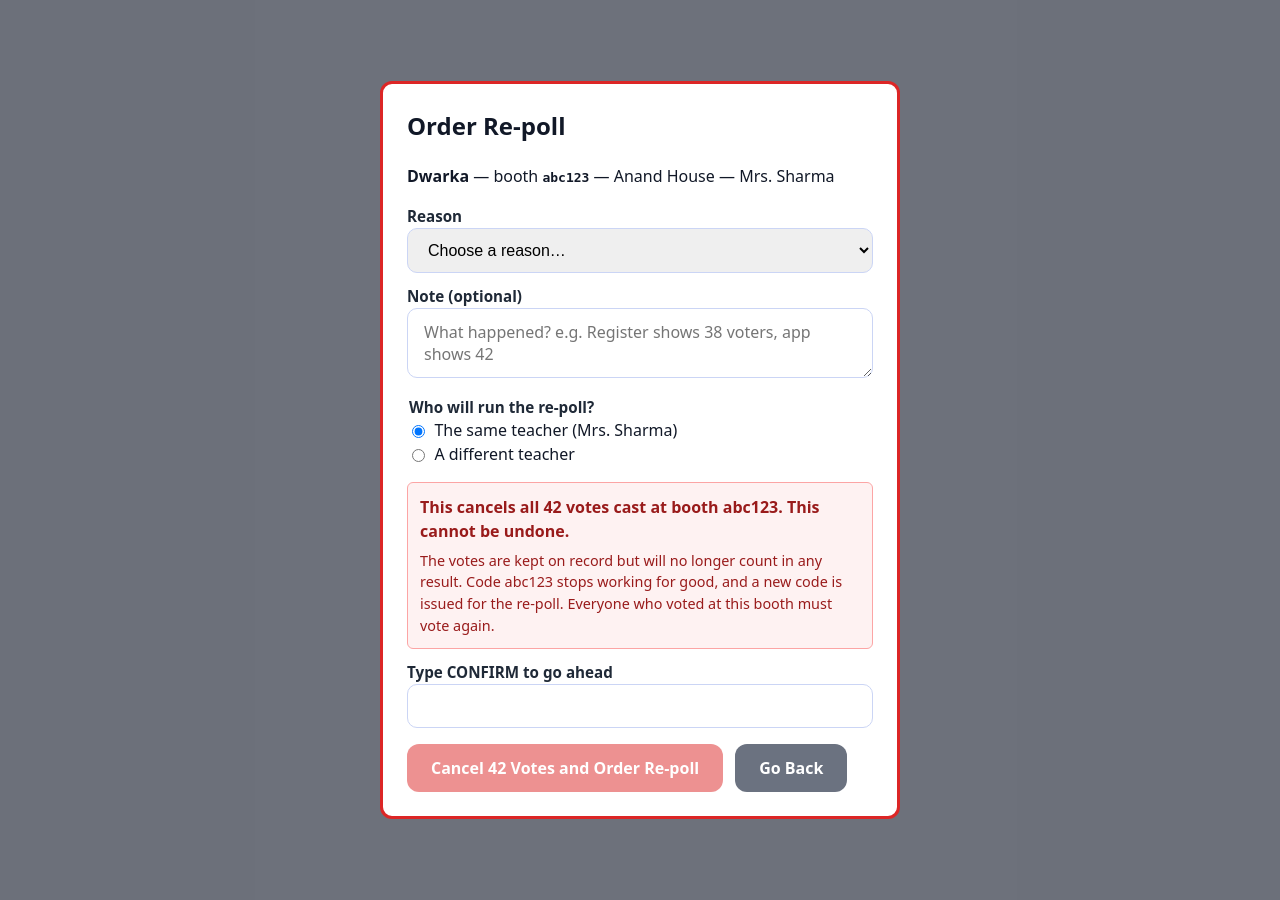
Test: RepollDialog › needs a reason
In the field labelled "Type CONFIRM to go ahead": [640, 706] box x1=407 y1=684 x2=873 y2=728, type "CONFIRM"
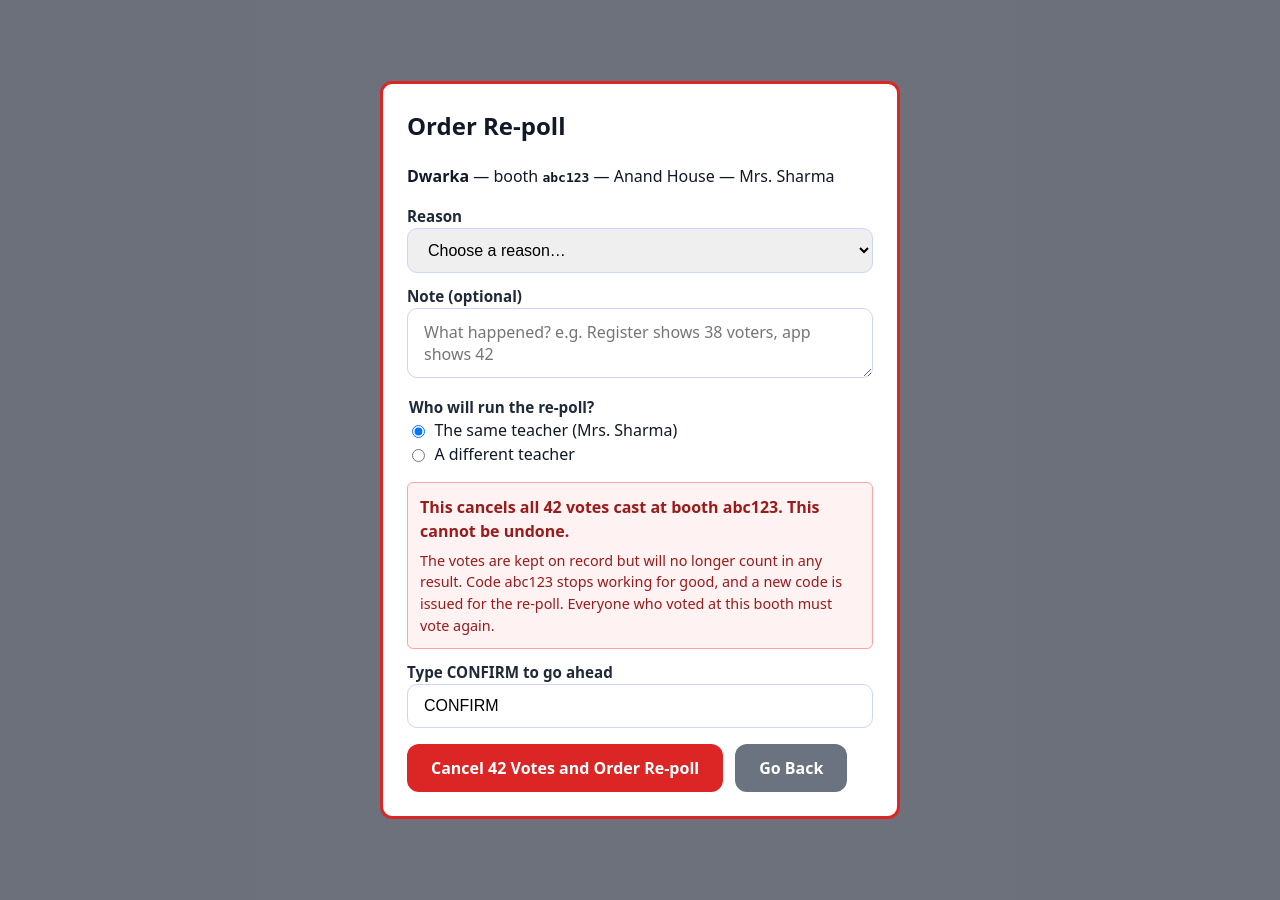
Click the button "Cancel 42 Votes and Order Re-poll": [565, 768] box x1=407 y1=744 x2=723 y2=792
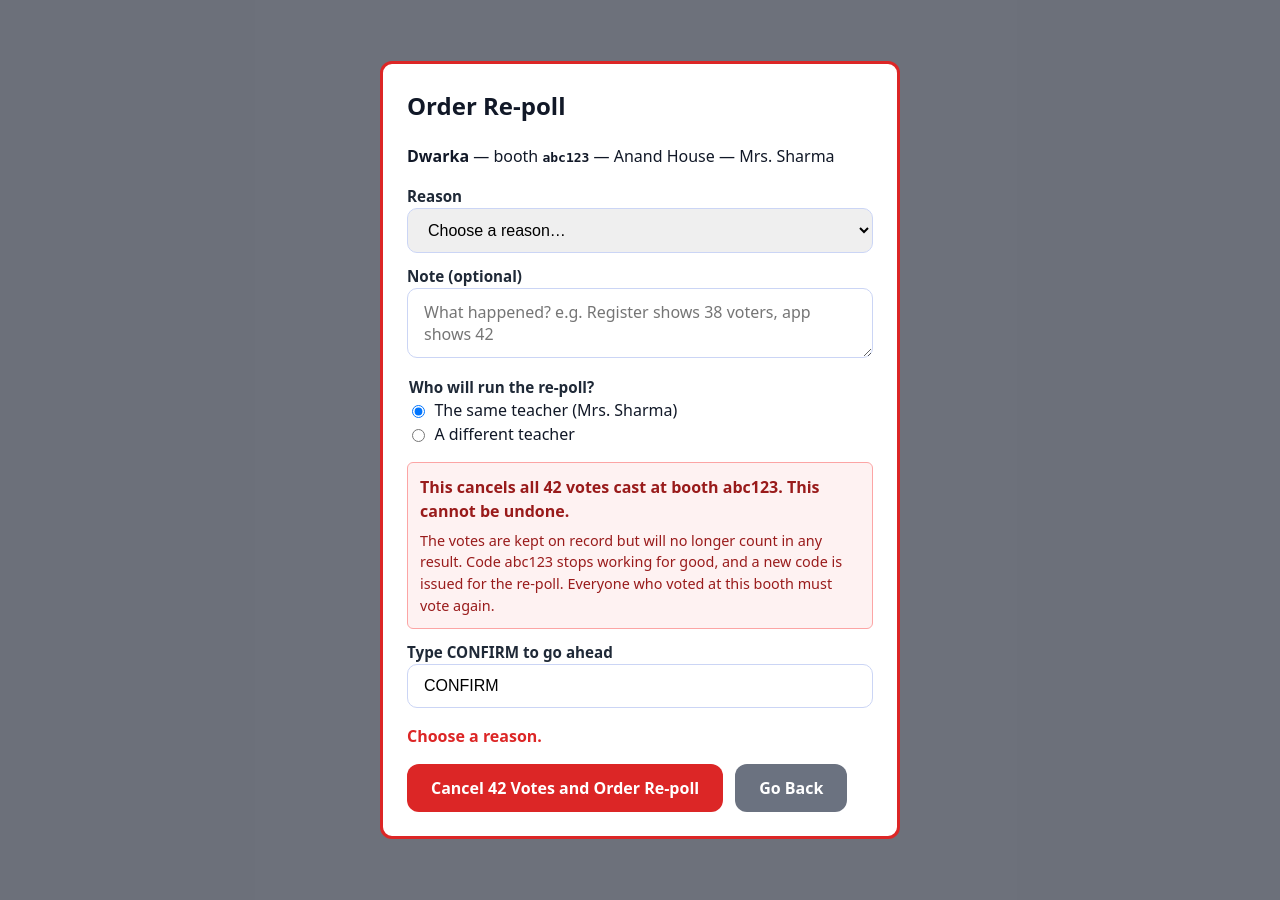
Expected: the text "Choose a reason." is shown, x1=407 y1=725 x2=542 y2=747
